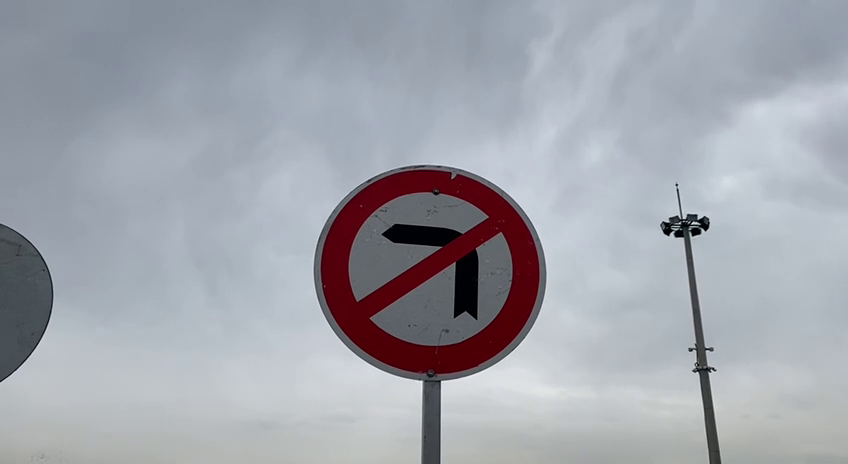noTurnLeft: (313, 161, 548, 383)
